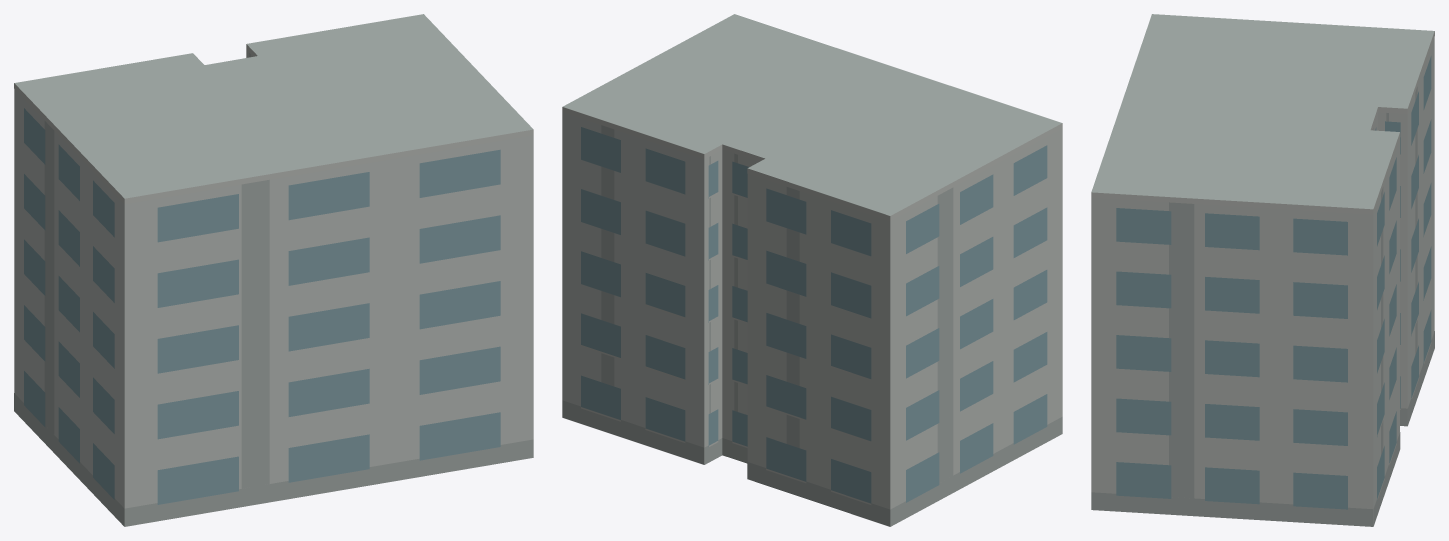
File: survey-upis-32638766.glb
3 views of the same model, side by side, from view 1: azimuth 30°, elevation 25°; view 2: azimuth 150°, elevation 25°; view 3: azimuth 270°, elevation 25° (orthographic). The views are drawn at different scales.
Parts seen in each view (by area): view 1: survey-upis-32638766.tmp; view 2: survey-upis-32638766.tmp; view 3: survey-upis-32638766.tmp.
Part boxes in pixels (x1,y1,x2,y2): survey-upis-32638766.tmp: (14, 14, 533, 526); survey-upis-32638766.tmp: (562, 14, 1062, 526); survey-upis-32638766.tmp: (1091, 14, 1434, 526).
Size of the model in its own units: 19 by 14.4 by 14.13.
